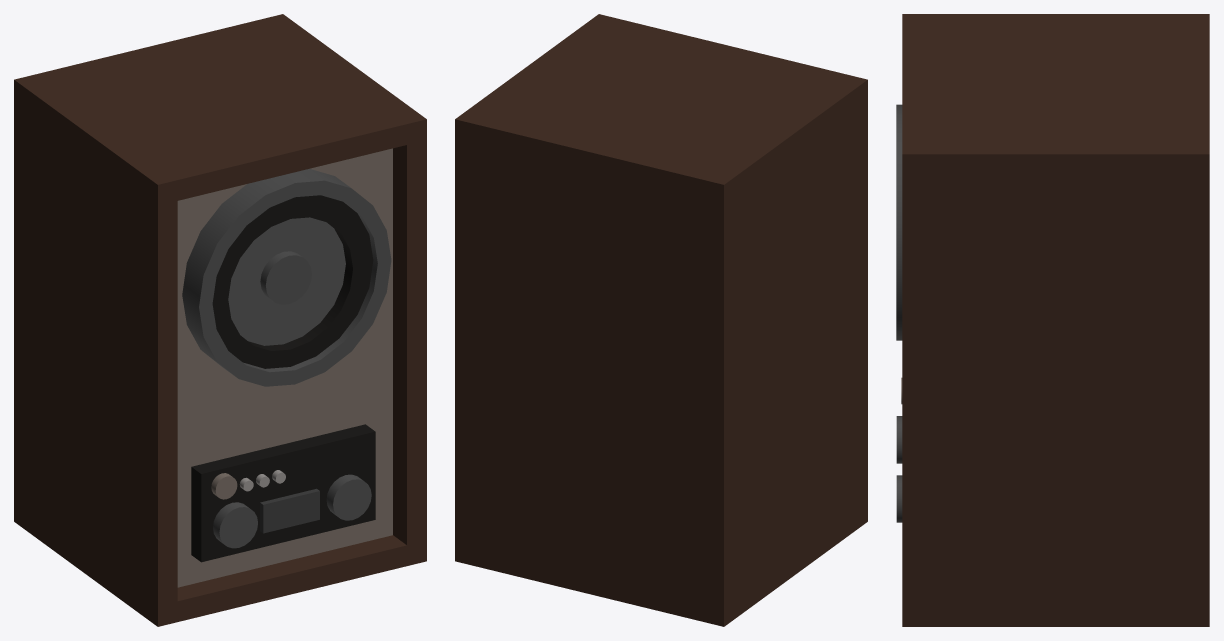
File: colored speaker deskroom.fbx
3 renders of one model, left to right at view 1: azimuth 30°, elevation 25°; view 2: azimuth 150°, elevation 25°; view 3: azimuth 270°, elevation 25°, orthographic. The views are drawn at different scales.
Visible parts, largest first — view 1: pCube1, pCube2, pCylinder2, pCylinder1, pCube3, pCylinder10, pCylinder3, pCube4; view 2: pCube1; view 3: pCube1, pCylinder1, pCylinder10.
Part boxes in pixels (x1,y1,x2,y2): pCube1: (14, 14, 426, 626); pCube2: (177, 148, 392, 587); pCylinder2: (212, 195, 373, 368); pCylinder1: (182, 169, 391, 386); pCube3: (191, 424, 375, 562); pCylinder10: (213, 474, 371, 548); pCylinder3: (260, 251, 311, 304); pCube4: (260, 488, 319, 533); pCube1: (455, 14, 867, 626); pCube1: (902, 14, 1209, 626); pCylinder1: (896, 104, 902, 340); pCylinder10: (896, 416, 902, 522).
Bounding box in the file's own units: 0.2704 × 0.4246 × 0.2553.
